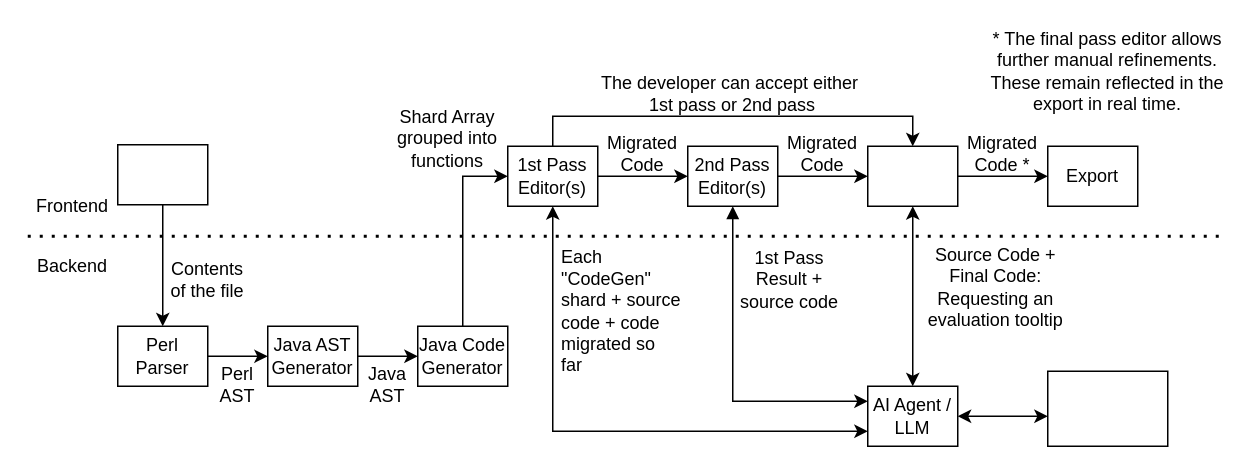
The diagram is 1256 pixels wide and 473 high, and some of its shapes have lost their labels. The box of each missing label's shape, as (x1, y1, x2, y2) in pixels:
Configuration & Prompt Engineering: (1046, 370, 1168, 446)
File Upload: (116, 143, 208, 205)
Final Pass Editor(s): (866, 145, 958, 206)
